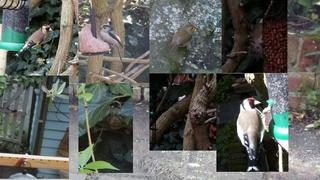goldfinch: (236, 97, 264, 172), (14, 24, 54, 59)
long tailed tit: (99, 24, 125, 74)
mouse: (248, 24, 263, 54)
robin: (169, 24, 198, 55)
